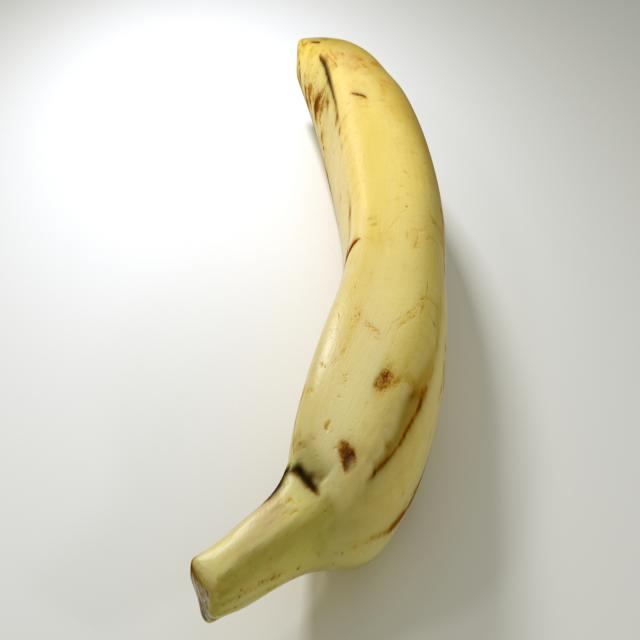Banana: (190, 39, 450, 624)
